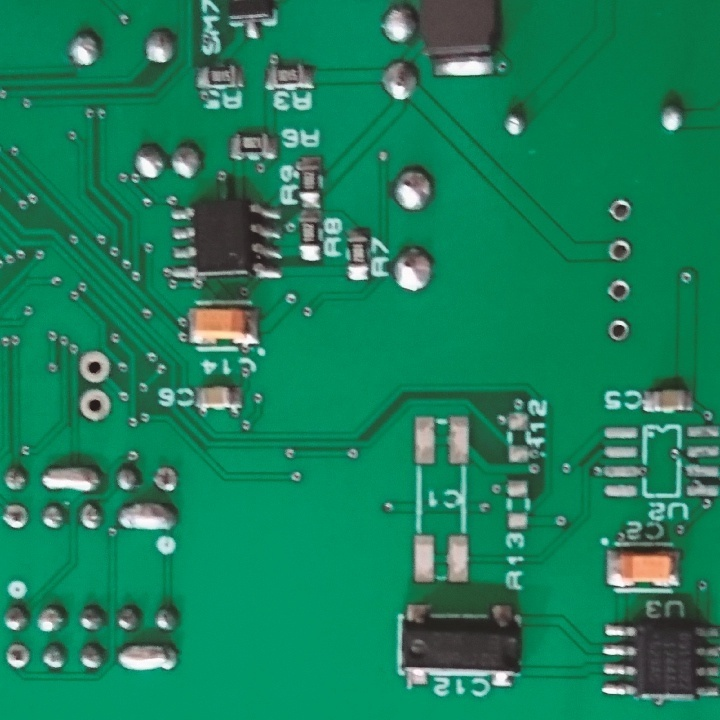F: (76, 349, 113, 386), (76, 389, 116, 418), (4, 641, 33, 672), (2, 502, 32, 530), (153, 465, 180, 493), (606, 196, 633, 223), (606, 277, 633, 303), (606, 316, 633, 342), (607, 237, 633, 263)
P: (116, 641, 181, 675), (115, 500, 179, 532), (39, 462, 104, 492)
